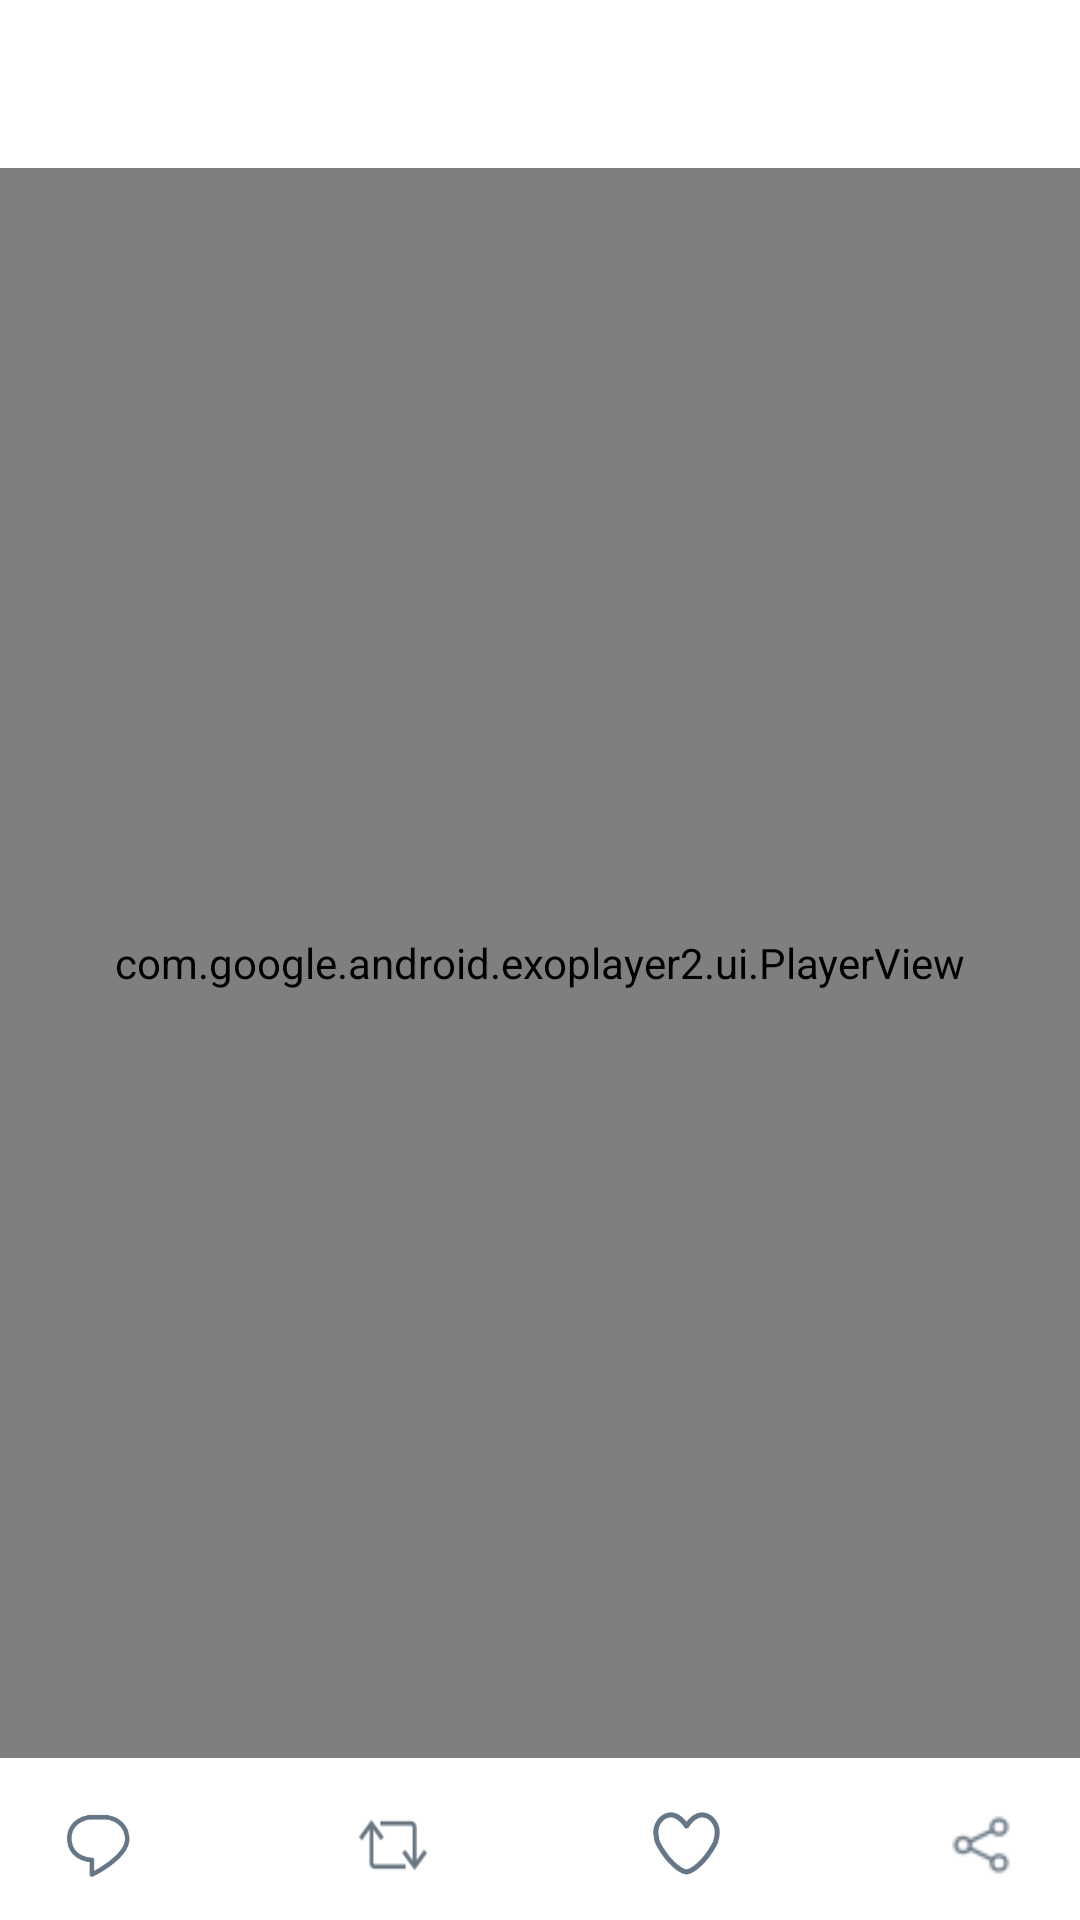

Icon click points for this 1080 × 1920 phone screenshot, format (x,y):
like: (686,1843)
reply: (98,1846)
share: (981,1845)
